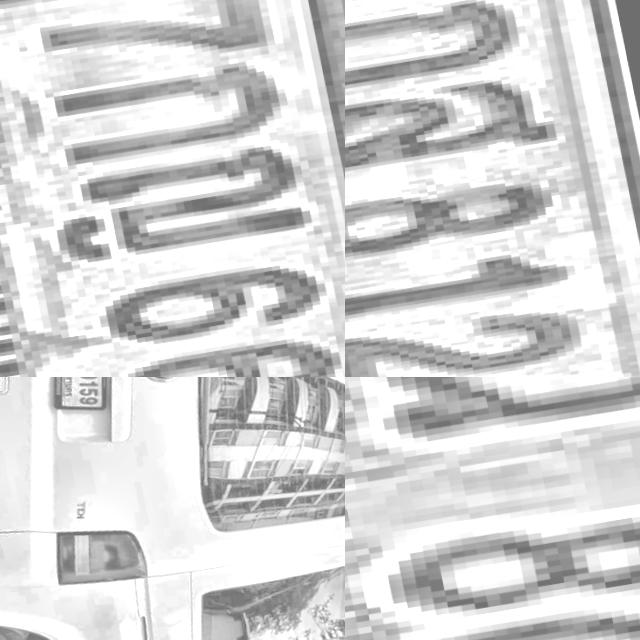license-plate: (0, 0, 345, 377), (345, 0, 640, 377), (345, 377, 640, 640), (33, 377, 121, 416)
